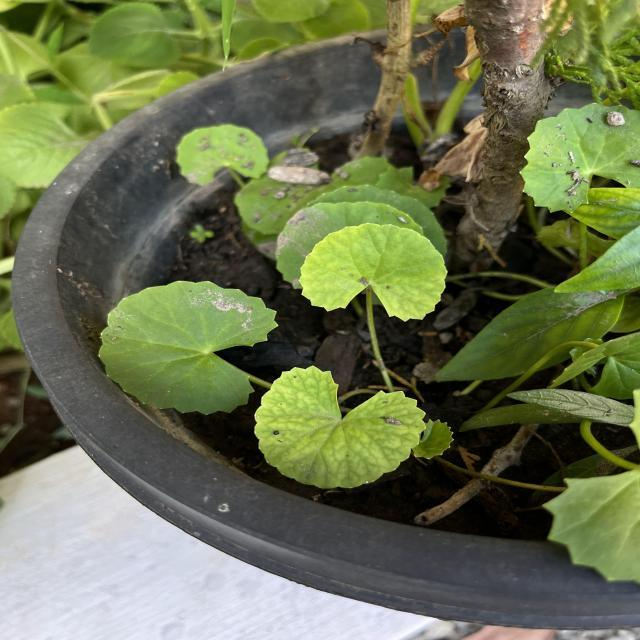Centella asiatica: (95, 277, 282, 419), (250, 361, 430, 494), (295, 220, 451, 326)
